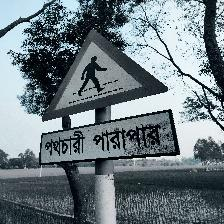Pedestrian-crossing: (40, 29, 178, 165)
